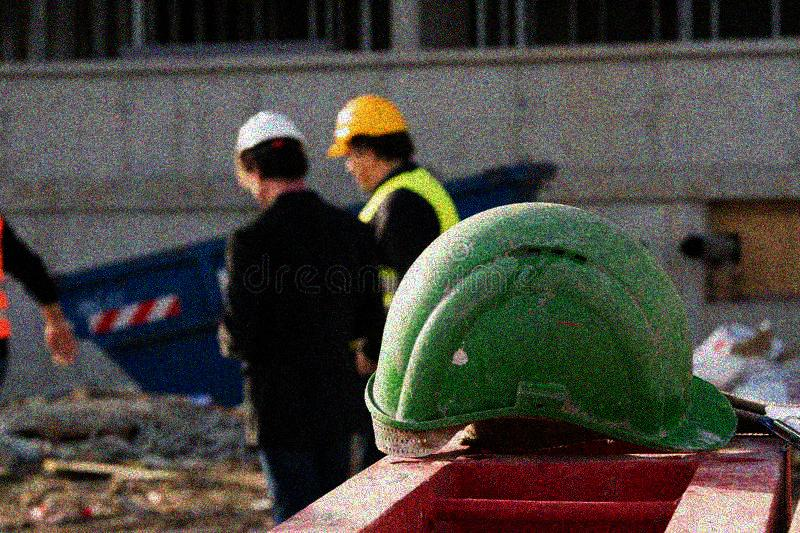helmet: (326, 93, 413, 191), (231, 108, 312, 207)
